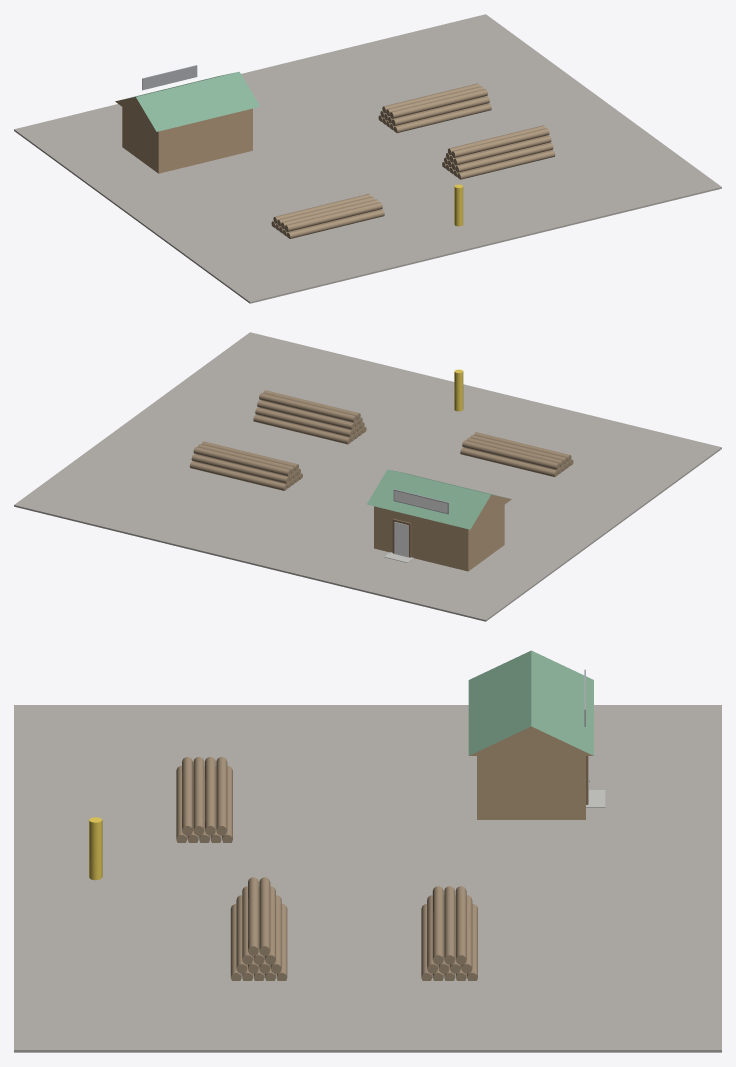
Rendered from lumber_camp.glb.
The picture shows the model from 3 angles, top to bottom: view 1: azimuth 30°, elevation 25°; view 2: azimuth 150°, elevation 25°; view 3: azimuth 270°, elevation 25°; orthographic projection. The views are drawn at different scales.
Visible parts, largest first — view 1: lumber_camp; view 2: lumber_camp; view 3: lumber_camp.
Part boxes in pixels (left/top/right/bottom): lumber_camp: left=14, top=14, right=721, bottom=303; lumber_camp: left=14, top=332, right=721, bottom=621; lumber_camp: left=14, top=650, right=721, bottom=1052.
Size of what is drawn, in the model's own units: 30 by 4.1 by 26.
